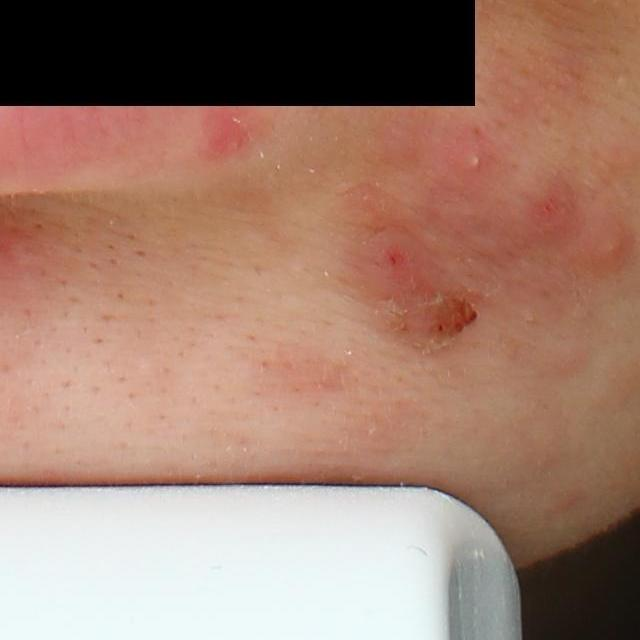papule: (356, 225, 442, 317), (200, 106, 268, 166), (523, 184, 585, 243), (583, 217, 635, 275), (344, 182, 397, 228)
